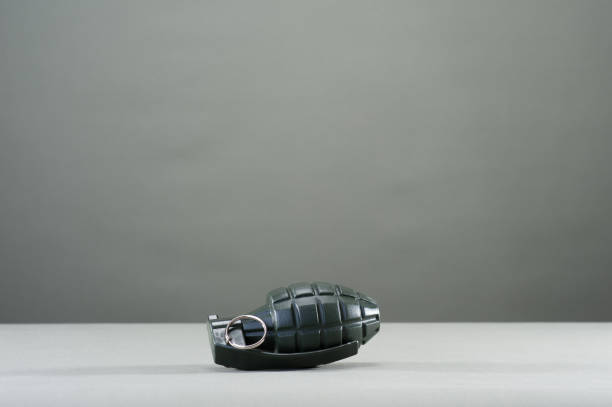e1: (206, 281, 384, 370)
